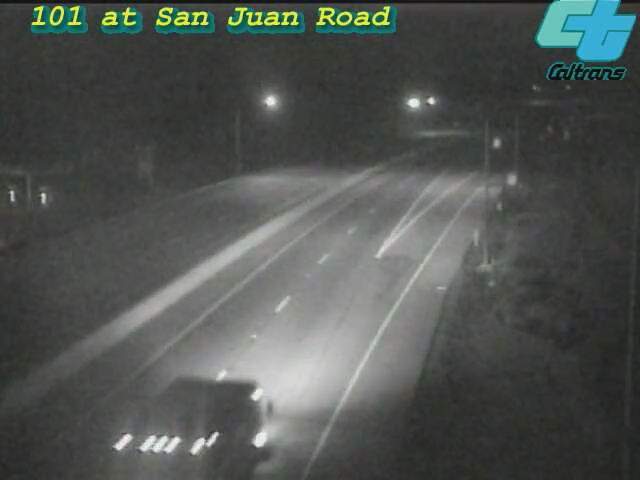vehicle: (138, 372, 248, 480)
